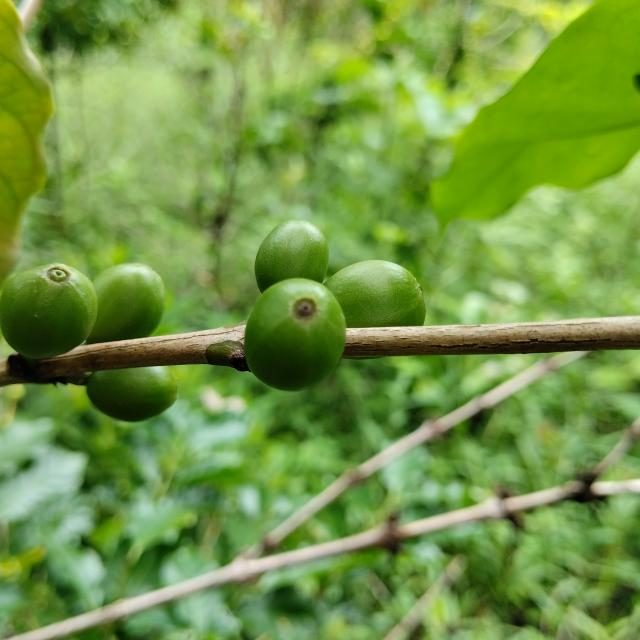green: (244, 278, 346, 391), (0, 264, 97, 359), (324, 260, 426, 328), (85, 263, 165, 344), (255, 219, 329, 292), (86, 366, 177, 422)
